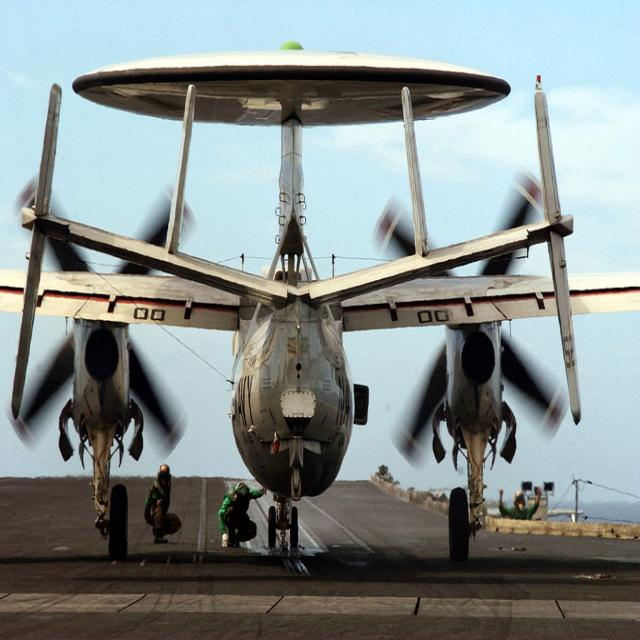MIL_Plane: (0, 38, 640, 560)
